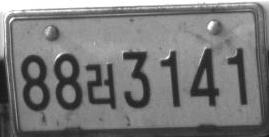1: (157, 49, 188, 106), (224, 46, 252, 106)
3: (120, 50, 150, 109)
4: (189, 46, 220, 106)
8: (52, 52, 83, 111), (20, 54, 50, 112)
러: (85, 63, 116, 110)
